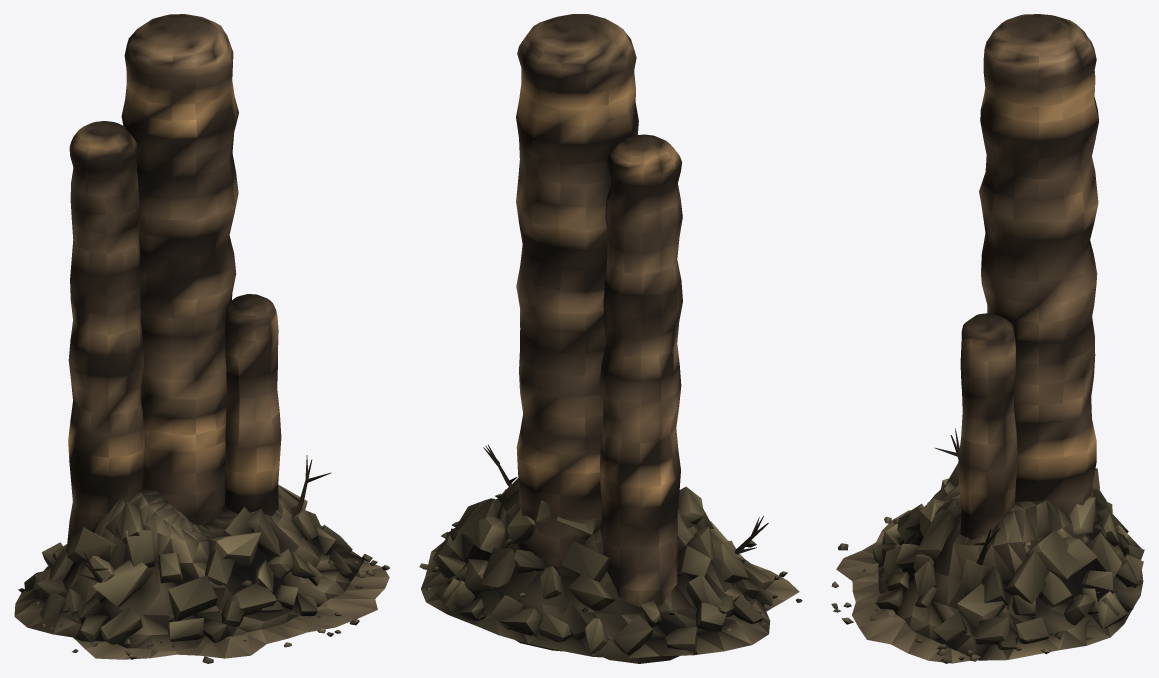
Rendered from TarSpire13.glb.
3 views of the same model, side by side, from view 1: azimuth 30°, elevation 25°; view 2: azimuth 150°, elevation 25°; view 3: azimuth 270°, elevation 25° (orthographic). The views are drawn at different scales.
Parts seen in each view (by area): view 1: TarSpire13; view 2: TarSpire13; view 3: TarSpire13.
Part boxes in pixels (x1,y1,x2,y2): TarSpire13: [14, 14, 389, 663]; TarSpire13: [419, 14, 802, 663]; TarSpire13: [831, 14, 1144, 663].
Bounding box in the file's own units: 6.88 × 11.26 × 5.56.
